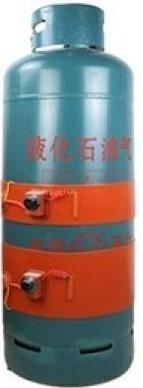cylinder: (0, 1, 143, 388)
